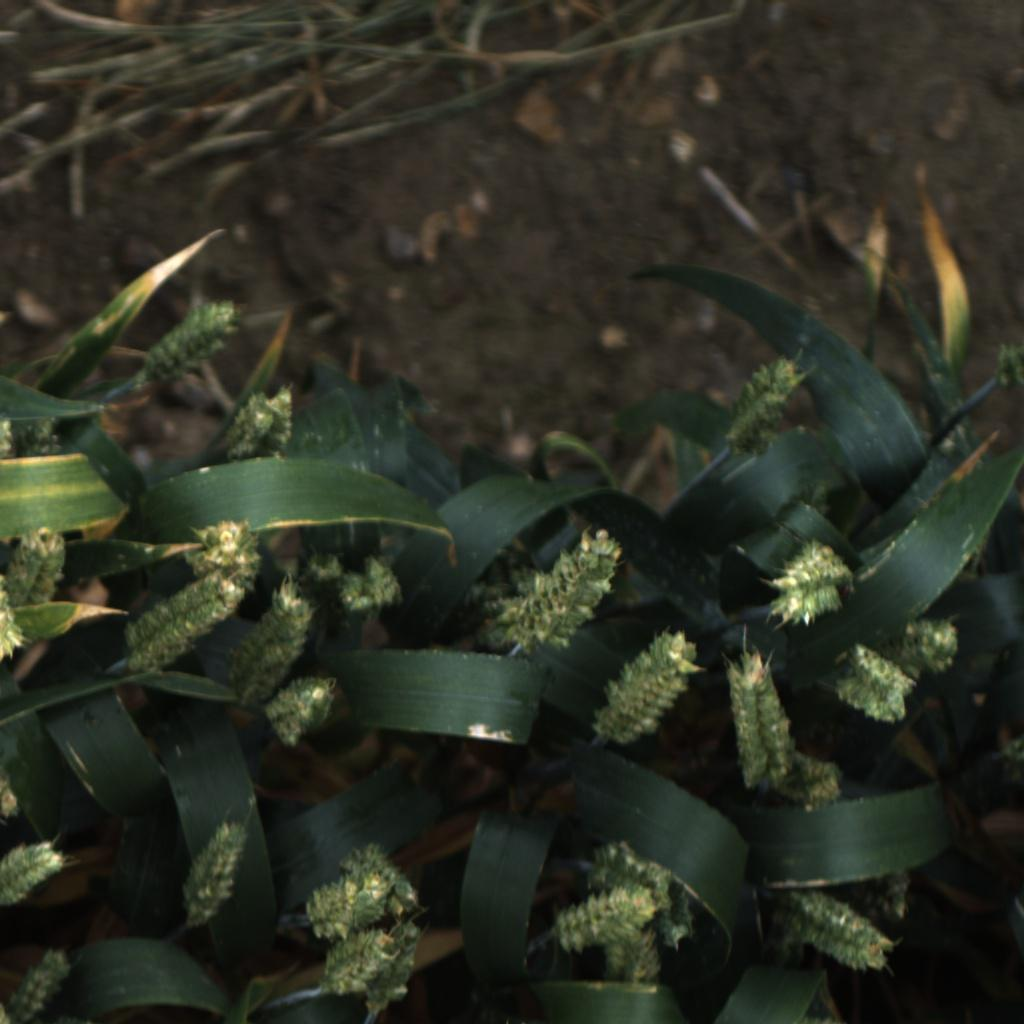0-0: (498, 528, 624, 669), (593, 626, 699, 743), (123, 577, 239, 674), (765, 888, 900, 971), (719, 646, 795, 785), (137, 292, 245, 386), (171, 814, 257, 928), (537, 883, 660, 959), (823, 639, 924, 730), (722, 349, 803, 462), (231, 584, 322, 682), (282, 861, 385, 945), (343, 830, 433, 925), (763, 535, 847, 632), (786, 864, 922, 922), (5, 935, 86, 1018), (225, 380, 303, 465), (315, 923, 394, 999), (186, 517, 265, 592), (266, 668, 339, 748), (375, 918, 436, 1010), (890, 605, 969, 675), (12, 520, 73, 609), (582, 829, 668, 891), (0, 837, 65, 911), (333, 551, 403, 617), (780, 752, 844, 807), (658, 867, 699, 952), (603, 924, 657, 985), (295, 542, 347, 603), (13, 414, 59, 464)
